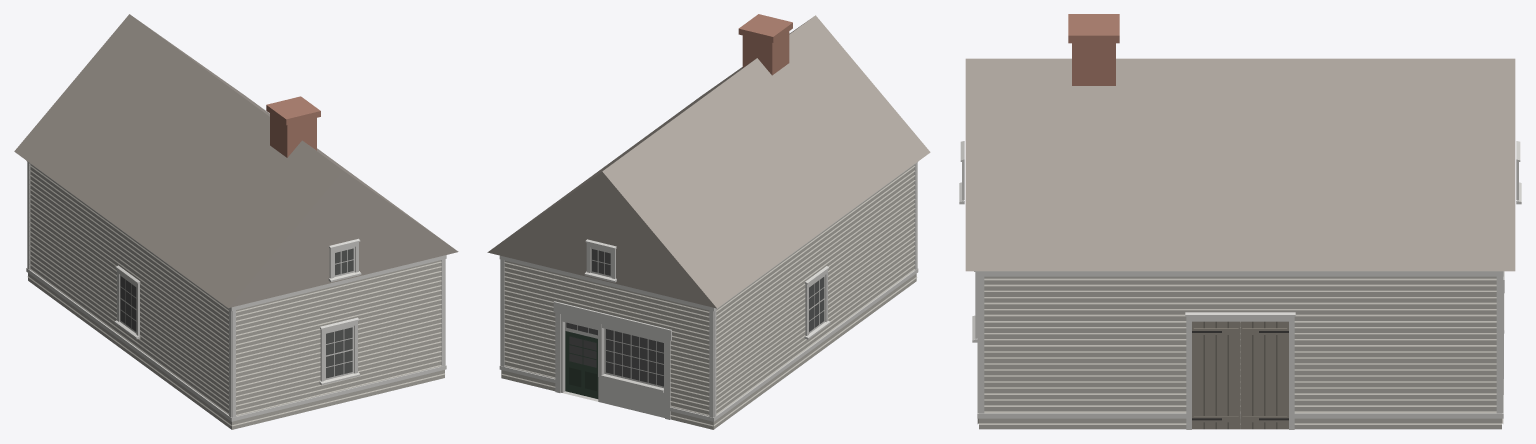
The model's file is recon_1835_core_c2_054__inferred_1835.glb.
3 renders of one model, left to right at view 1: azimuth 30°, elevation 25°; view 2: azimuth 150°, elevation 25°; view 3: azimuth 270°, elevation 25°, orthographic. The views are drawn at different scales.
Visible parts, largest first — view 1: recon_1835_core_c2_054__inferred_1835; view 2: recon_1835_core_c2_054__inferred_1835; view 3: recon_1835_core_c2_054__inferred_1835.
Boxes of the visible parts, x1,y1,x2,y2 form: recon_1835_core_c2_054__inferred_1835: (14,14,458,429); recon_1835_core_c2_054__inferred_1835: (487,14,930,429); recon_1835_core_c2_054__inferred_1835: (959,14,1521,429).
Bounding box in the file's own units: 6.52 × 7.12 × 10.74.
